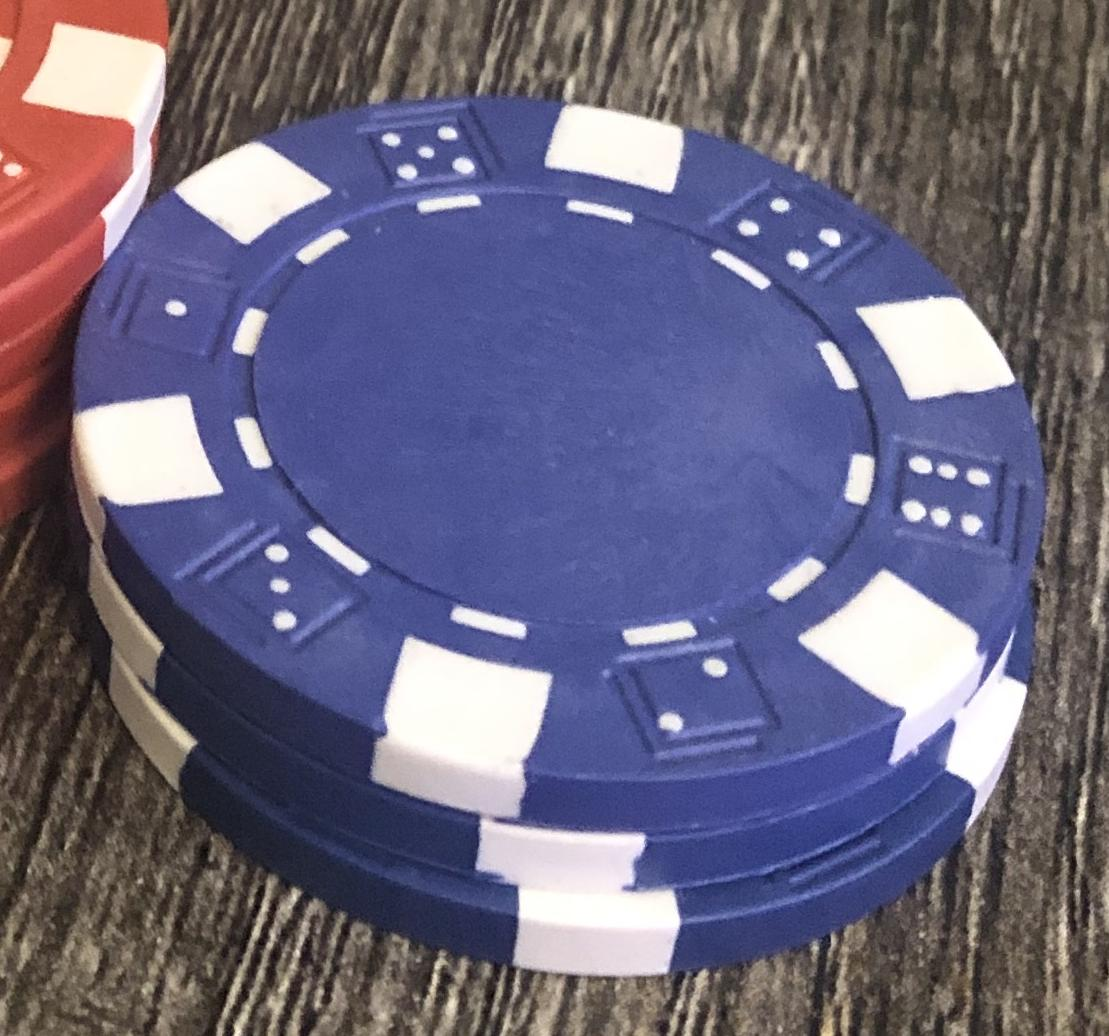Chip: (1, 1, 1109, 1036)
